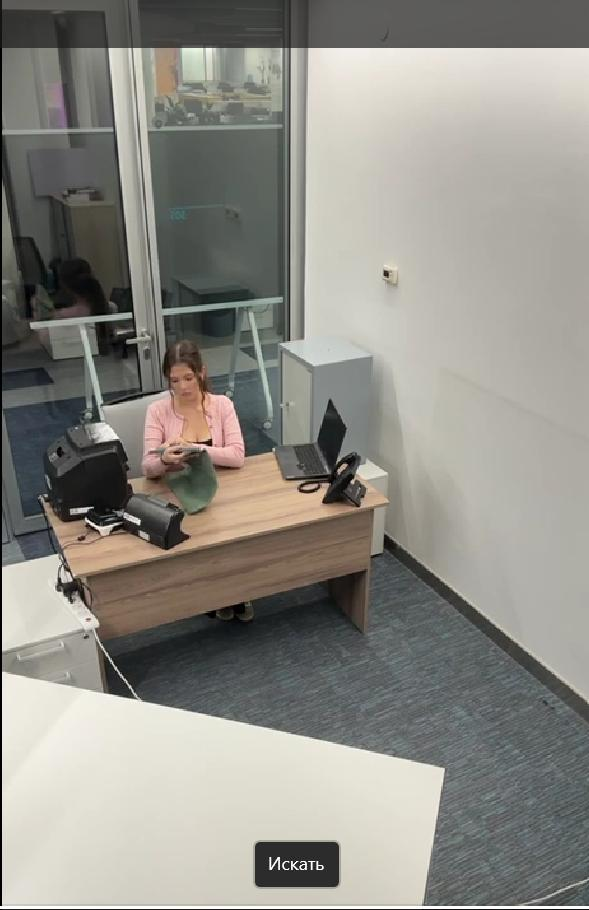cash-in-transit bag: (148, 448, 218, 520)
counter: (40, 416, 126, 533)
key_in: (266, 394, 317, 424)
uv_lamp: (108, 496, 205, 560)
